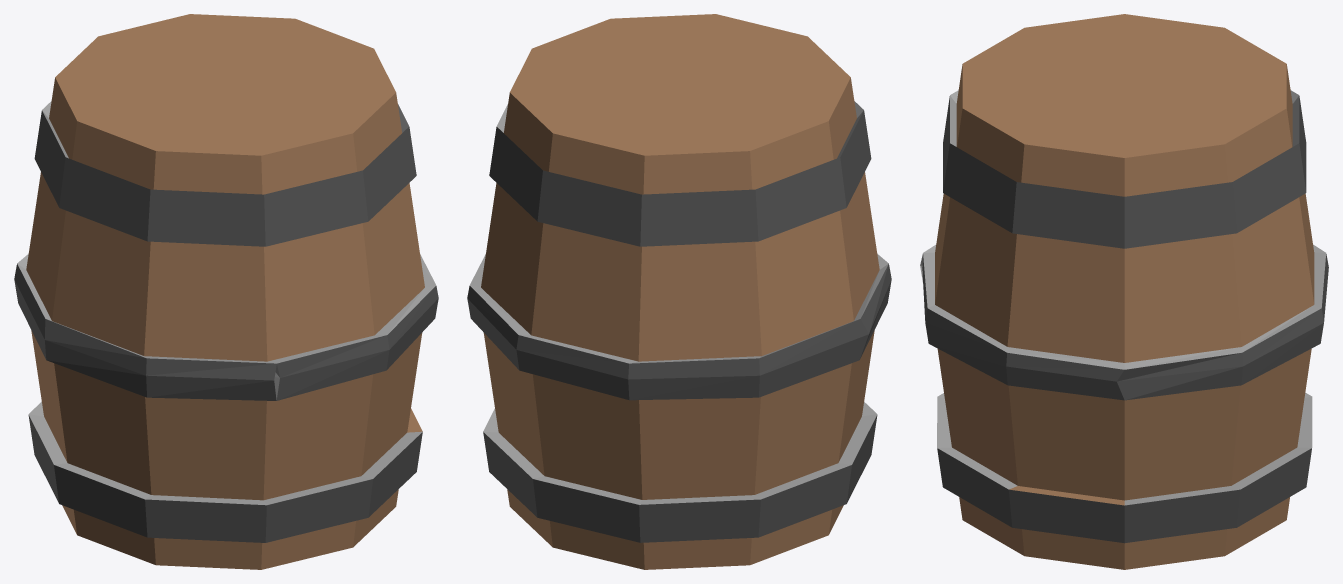
Rendered from barrel.fbx.
3 views of the same model, side by side, from view 1: azimuth 30°, elevation 25°; view 2: azimuth 150°, elevation 25°; view 3: azimuth 270°, elevation 25° (orthographic).
Parts seen in each view (by area): view 1: pCylinder1; view 2: pCylinder1; view 3: pCylinder1.
Part boxes in pixels (x1,y1,x2,y2): pCylinder1: [14, 14, 438, 569]; pCylinder1: [467, 14, 891, 569]; pCylinder1: [920, 14, 1328, 569].
Bounding box in the file's own units: 7.64 × 8.18 × 7.36.
